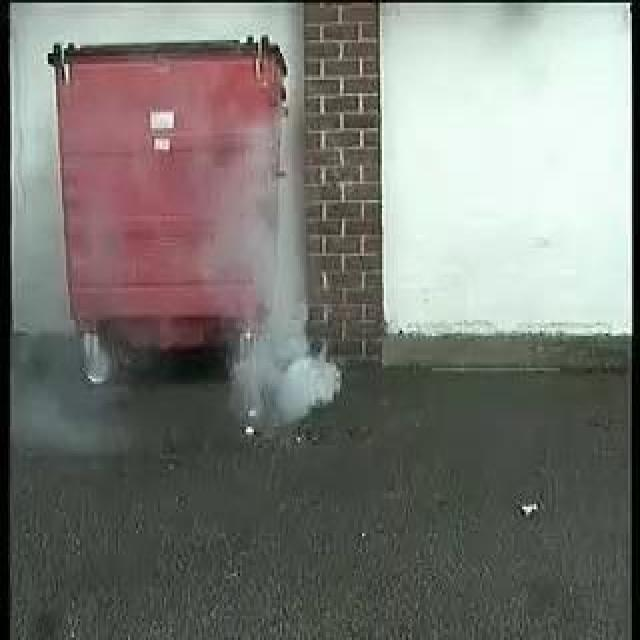Smoke: (228, 165, 346, 411)
